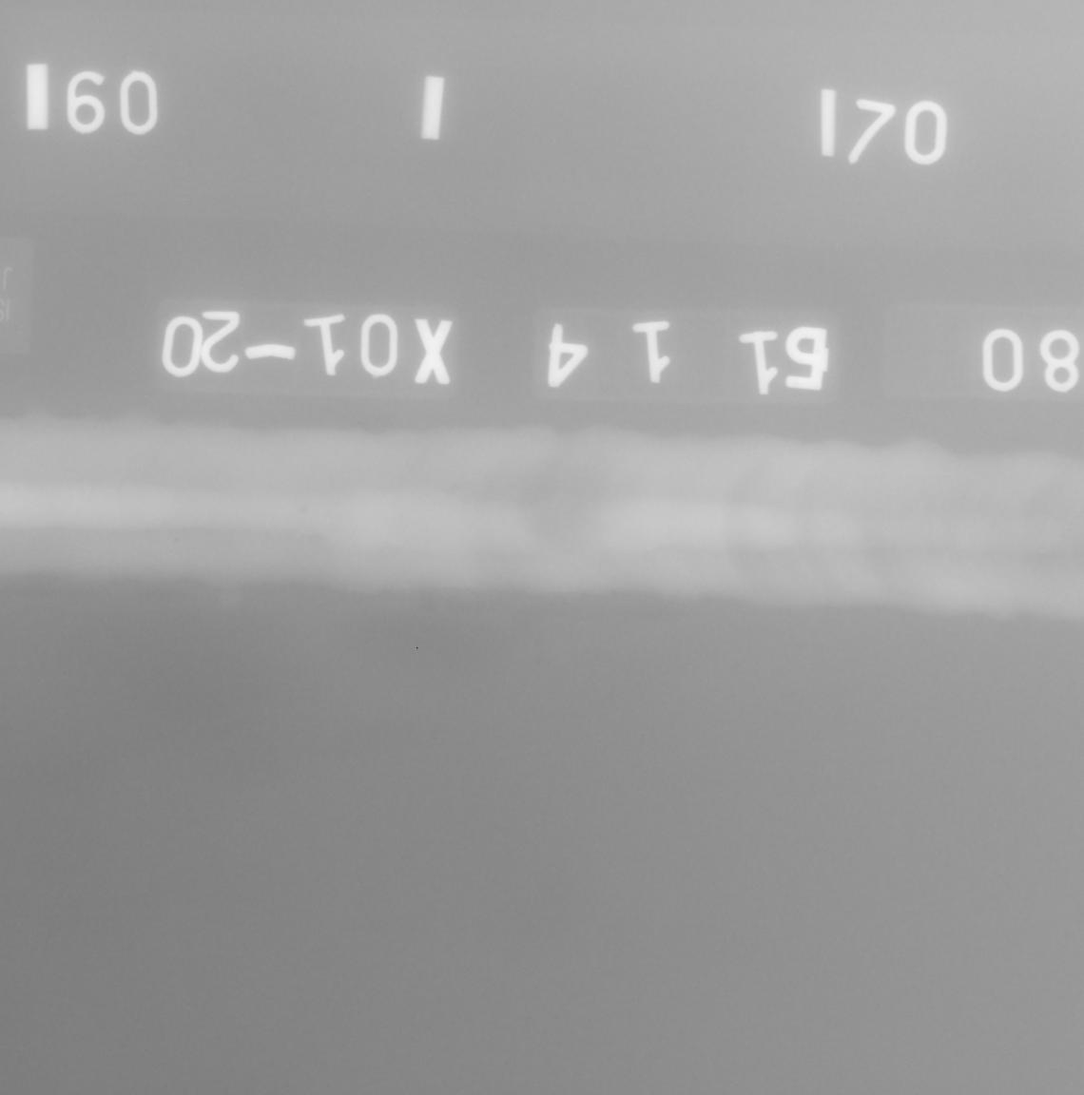Pore/Porosity: (445, 484, 458, 494), (300, 507, 306, 513), (173, 538, 177, 542)
